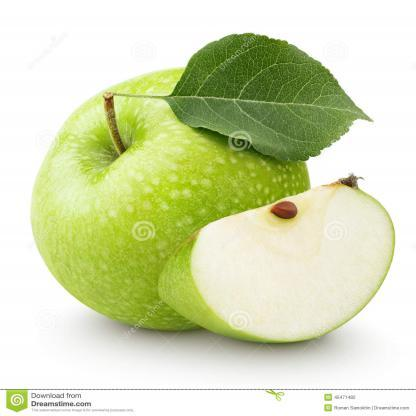Apple leaf: (161, 24, 377, 168)
